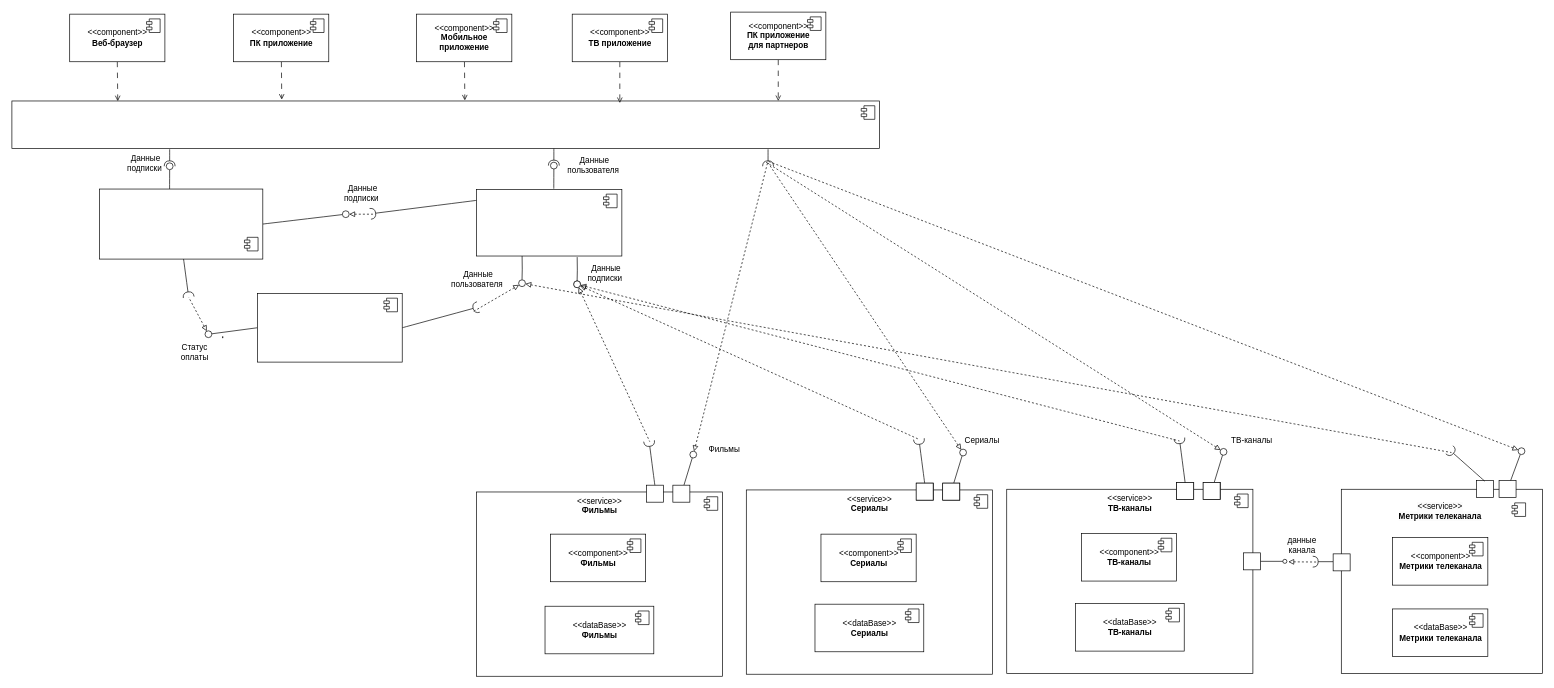
Some shapes in this 1554 by 688 pixel diagram are drawn without their labels. Each missing label, with the centre of its shape:
"<<component>> Слой API" goes at pixel 445 124.
"<<service>> Оплата" goes at pixel 329 327.
"<<service>> Подписка" goes at pixel 181 223.
"<<service>> Пользователь" goes at pixel 549 222.
